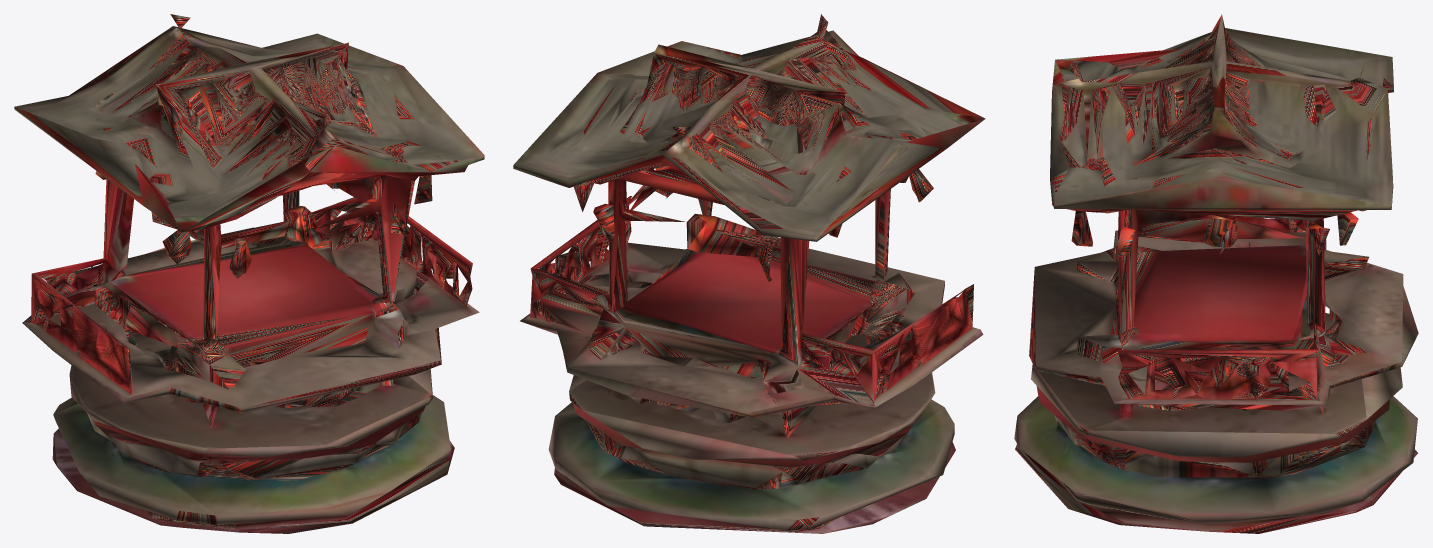
File: bq_music_pav.far.glb
3 views of the same model, side by side, from view 1: azimuth 30°, elevation 25°; view 2: azimuth 150°, elevation 25°; view 3: azimuth 270°, elevation 25° (orthographic).
Bounding box in the file's own units: 1.93 × 1.98 × 1.86.
Materials: 1 (1 with a texture image).
